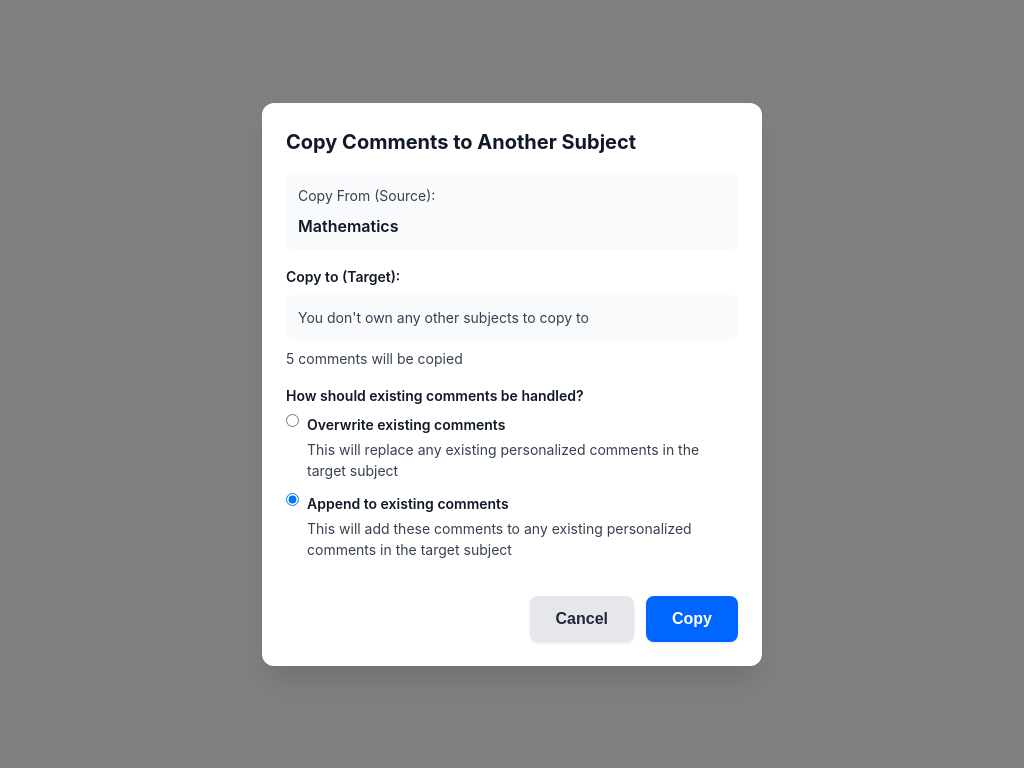
CopyCommentsModal - Copy Mode Selection (US-CP-003) › AC-3.4: Selection Behavior › should toggle overwrite radio when clicked
Step 1. Click the radio button labelled "Overwrite existing comments" → (292, 420), box [286,414,299,426]
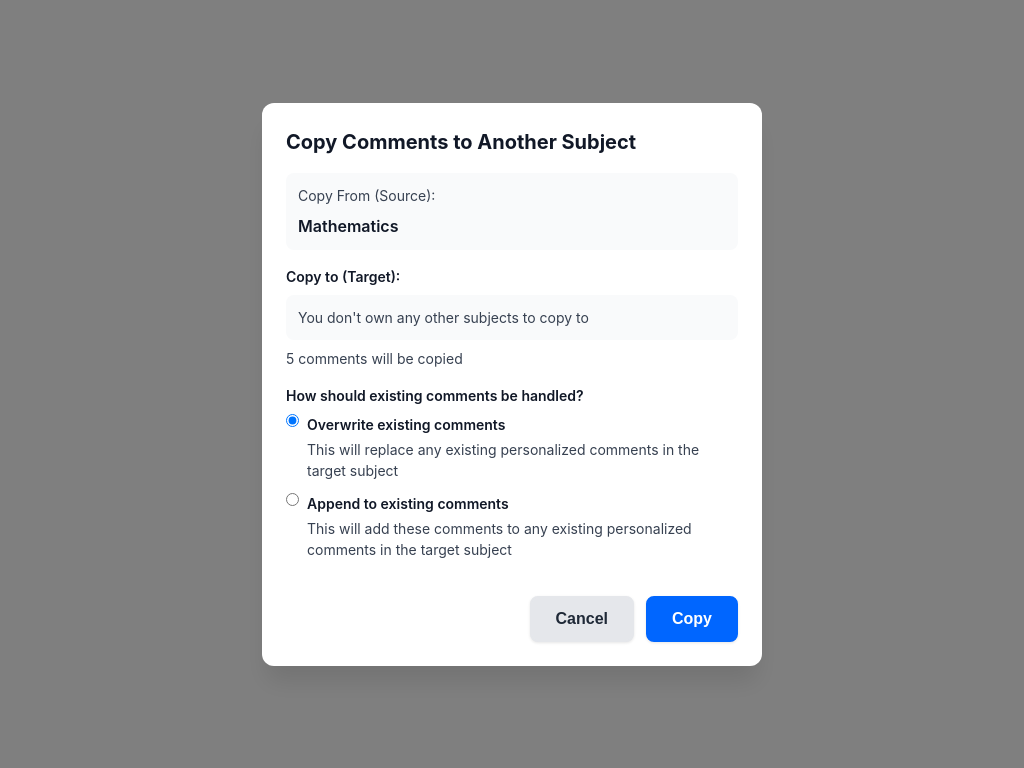
Expected: the radio button labelled "Overwrite existing comments" is checked, [286,414,299,426]
Expected: the radio button labelled "Append to existing comments" is not checked, [286,492,299,506]
